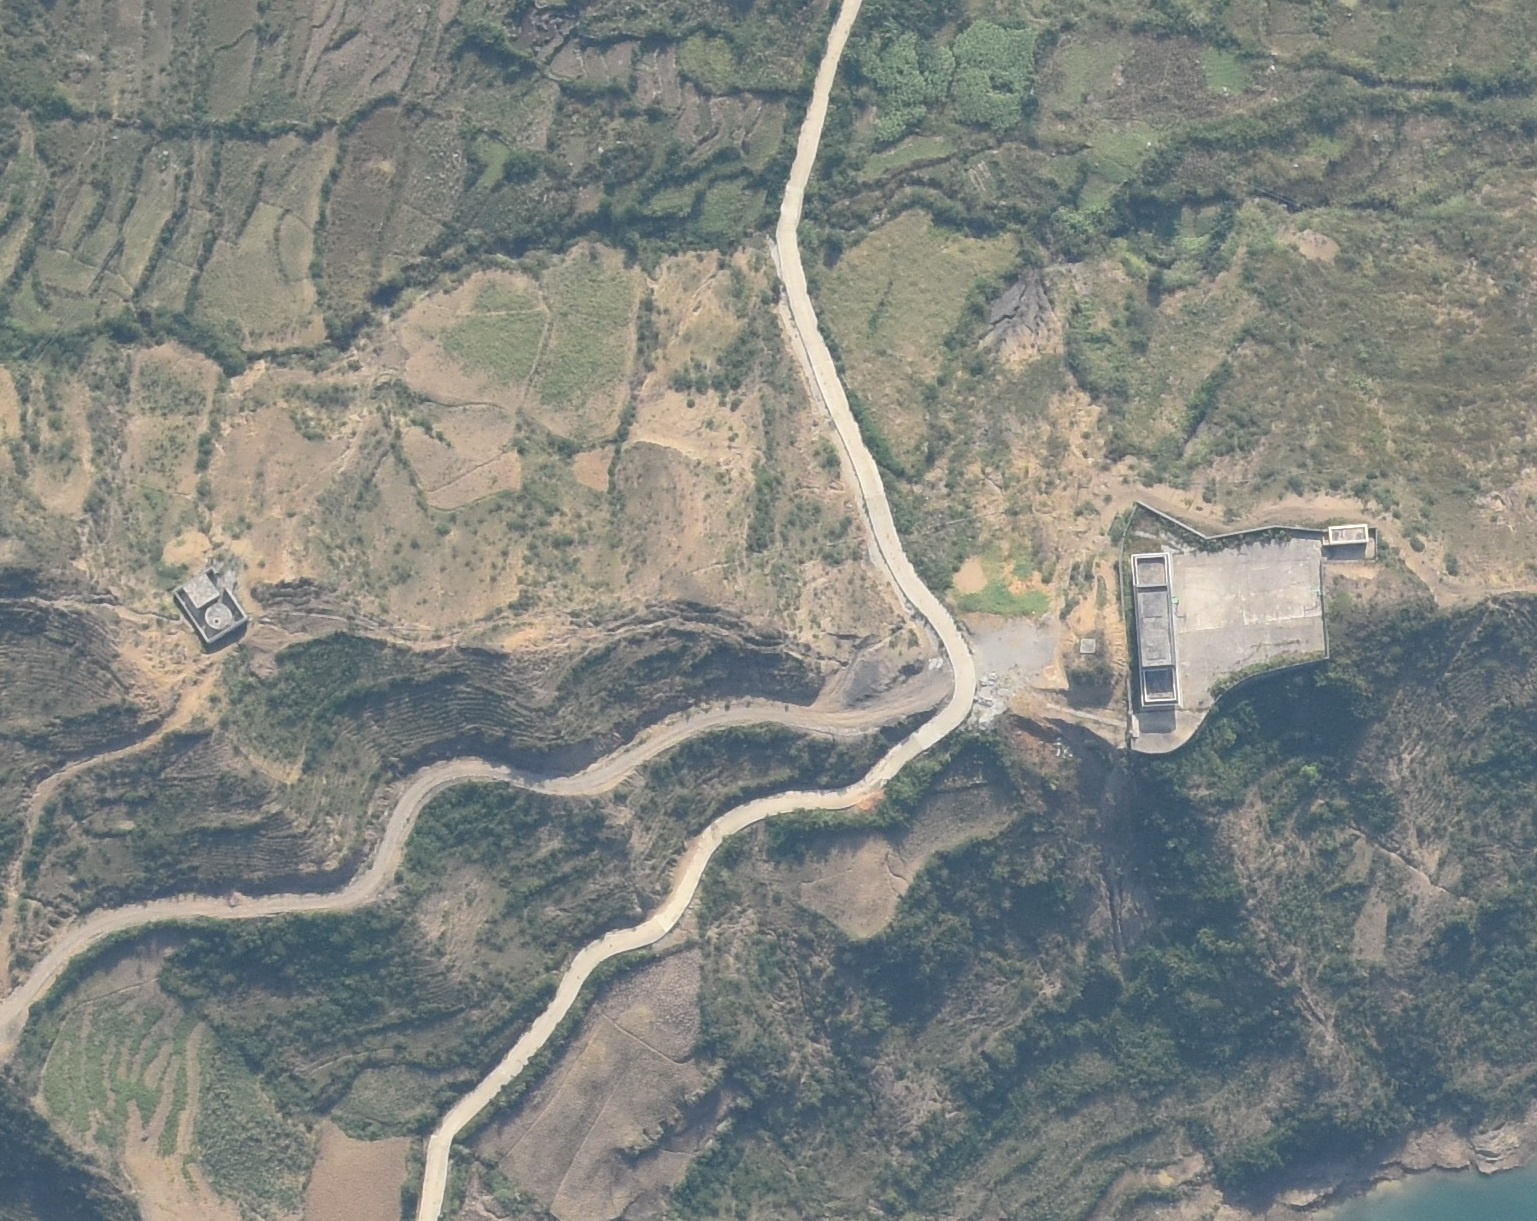building: (1131, 552, 1183, 705), (173, 568, 246, 644), (1327, 522, 1370, 549)
well: (204, 601, 233, 631)
